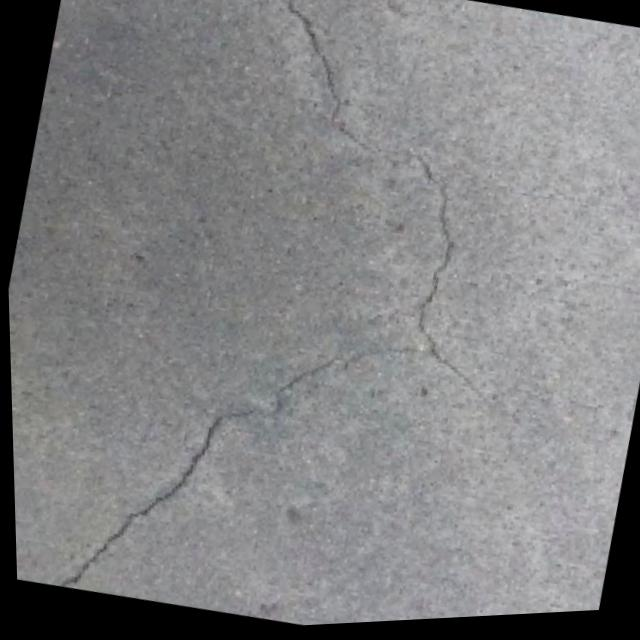Crack: (24, 0, 522, 639)
